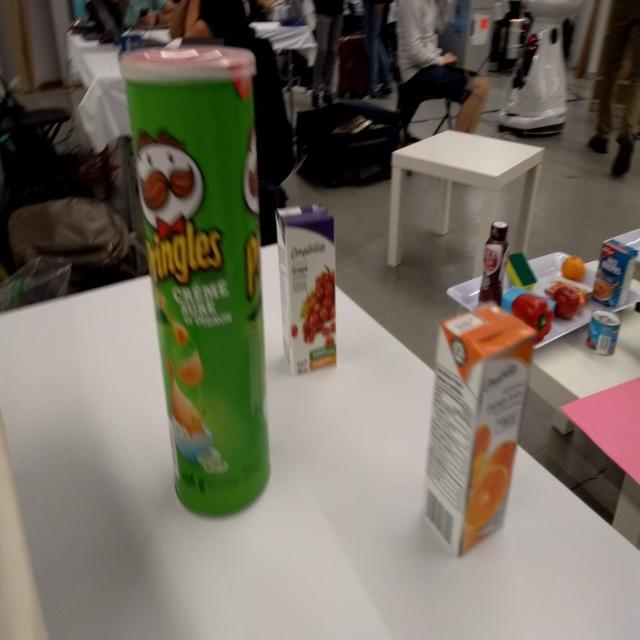apple: (550, 285, 582, 324)
cereal: (589, 237, 639, 312)
chocolate_drink: (479, 218, 511, 307)
grape_juice: (271, 203, 343, 380)
orange: (561, 254, 587, 282)
orange_juice: (413, 292, 538, 561)
pringles: (115, 40, 278, 522)
sausages: (587, 308, 624, 360)
scrubby: (506, 251, 539, 289)
